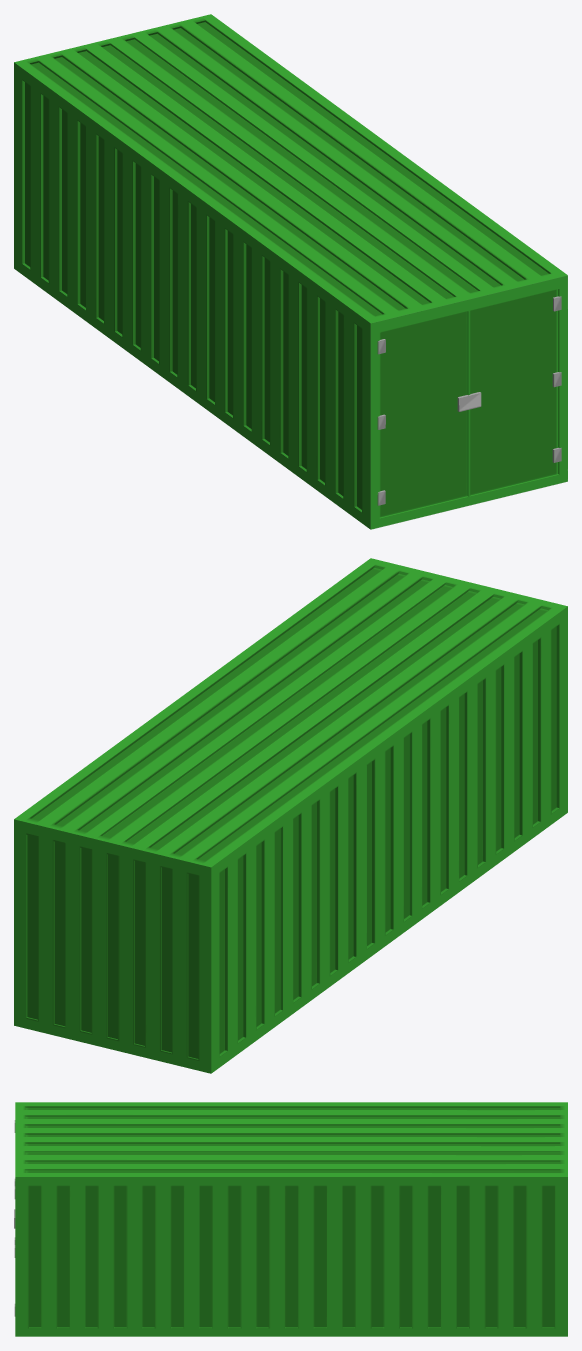
File: zeleni kontejner.fbx
3 views of the same model, one above another, from view 1: azimuth 30°, elevation 25°; view 2: azimuth 150°, elevation 25°; view 3: azimuth 270°, elevation 25° (orthographic). The views are drawn at different scales.
Parts seen in each view (by area): view 1: Cube.001; view 2: Cube.001; view 3: Cube.001.
Boxes of the visible parts, x1,y1,x2,y2 form: Cube.001: (14, 14, 567, 529); Cube.001: (14, 558, 567, 1073); Cube.001: (14, 1102, 567, 1336).
Bounding box in the file's own units: 229 × 229 × 720.
1 material, 1 textured.
